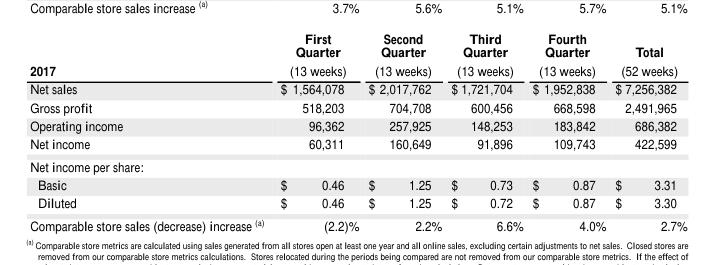table: (29, 29, 686, 234)
table column: (29, 29, 271, 234), (271, 29, 363, 234), (363, 29, 445, 234), (445, 29, 527, 234), (527, 29, 609, 234), (609, 29, 686, 234)
table column header: (29, 29, 686, 79)
table projected row header: (29, 154, 686, 175)
table row: (29, 29, 686, 79), (29, 133, 686, 154), (29, 154, 686, 175), (29, 213, 686, 234), (29, 193, 686, 213), (29, 79, 686, 97), (29, 97, 686, 115), (29, 115, 686, 133), (29, 175, 686, 193)
